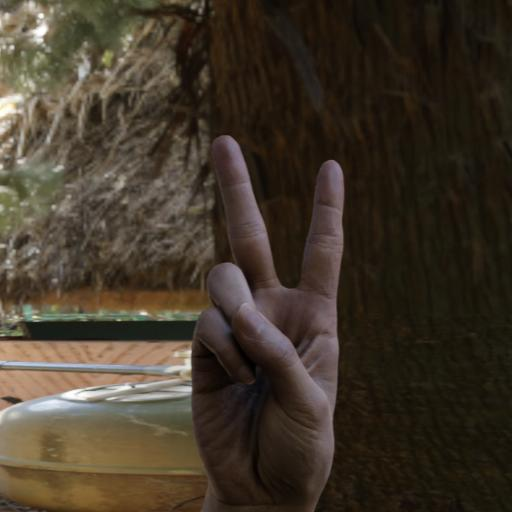V: (188, 132, 351, 508)
